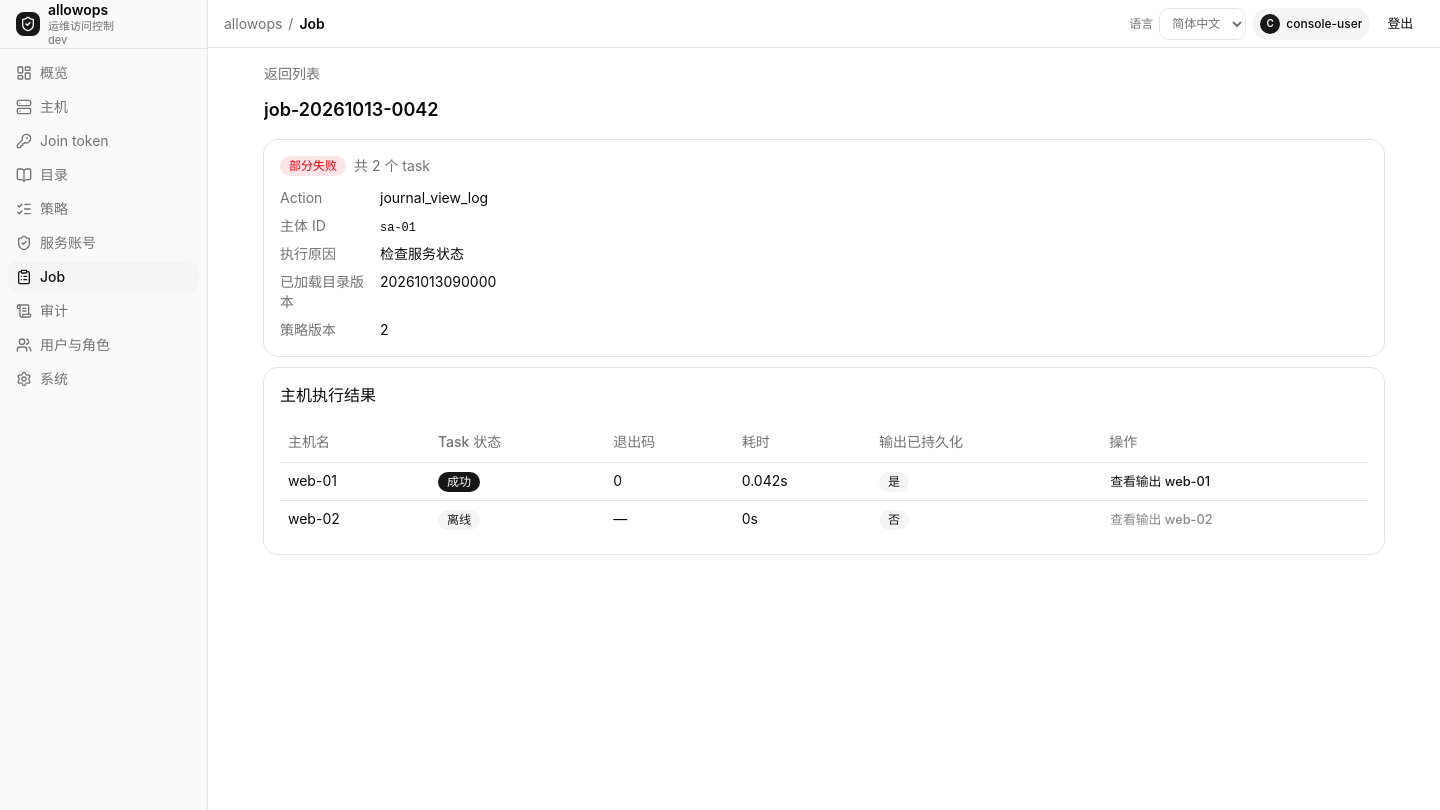
Test: console pages › shows host output as plain text in job detail
This screenshot has width=1440, height=810.
Check: the heading "job-20261013-0042" is shown, box [264,99,438,120]
Click the button "查看输出 web-01" at (1160, 482), box [1109,472,1211,492]
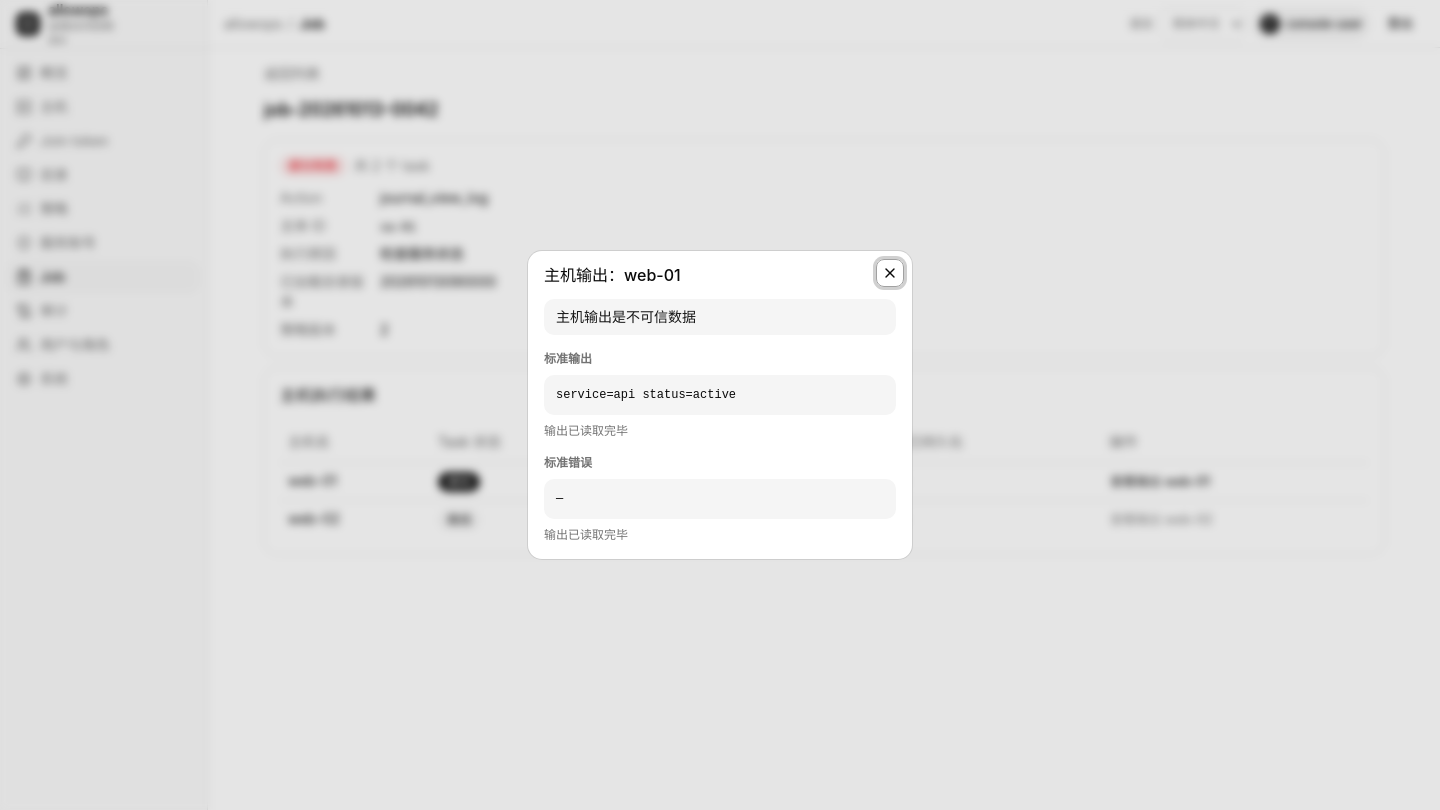
Check: the text "service=api status=active" is shown, box [544,375,896,415]
Check: the text "主机输出是不可信数据" is shown, box [544,299,896,335]
